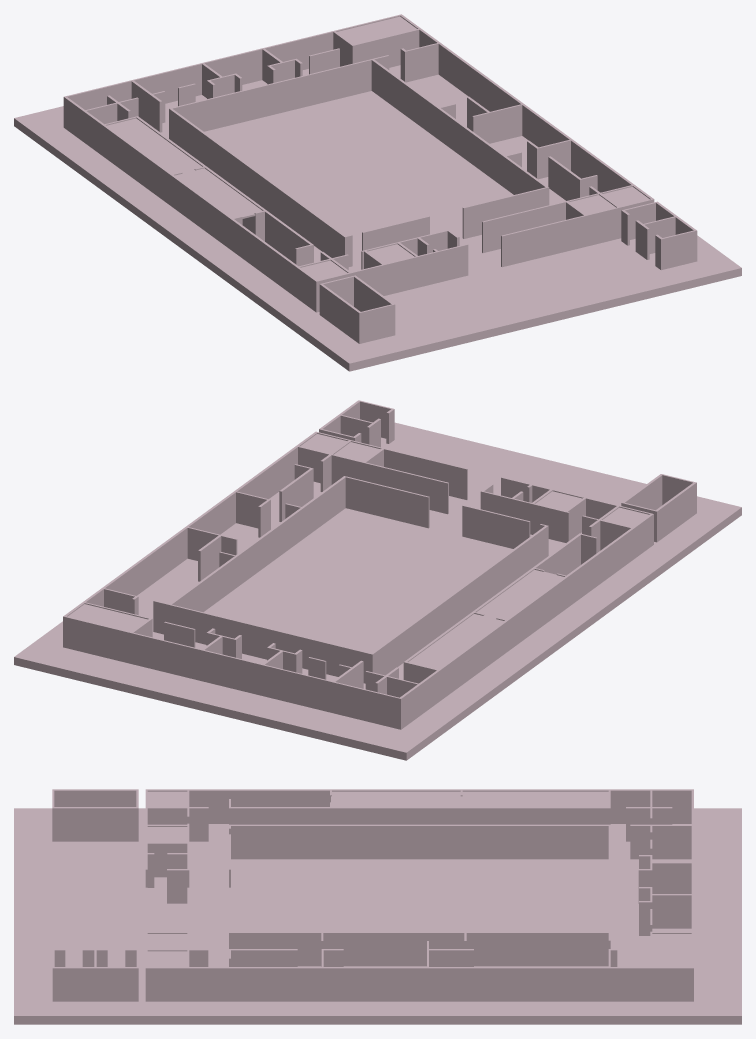
Rendered from museum.glb.
3 renders of one model, top to bottom at view 1: azimuth 30°, elevation 25°; view 2: azimuth 150°, elevation 25°; view 3: azimuth 270°, elevation 25°, orthographic. The views are drawn at different scales.
Visible parts, largest first — view 1: M_walls; view 2: M_walls; view 3: M_walls.
Boxes of the visible parts, x1,y1,x2,y2 form: M_walls: (14, 14, 741, 371); M_walls: (14, 400, 741, 760); M_walls: (14, 789, 741, 1024).
Size of the model in its own units: 8.51 by 0.8048 by 12.59.
